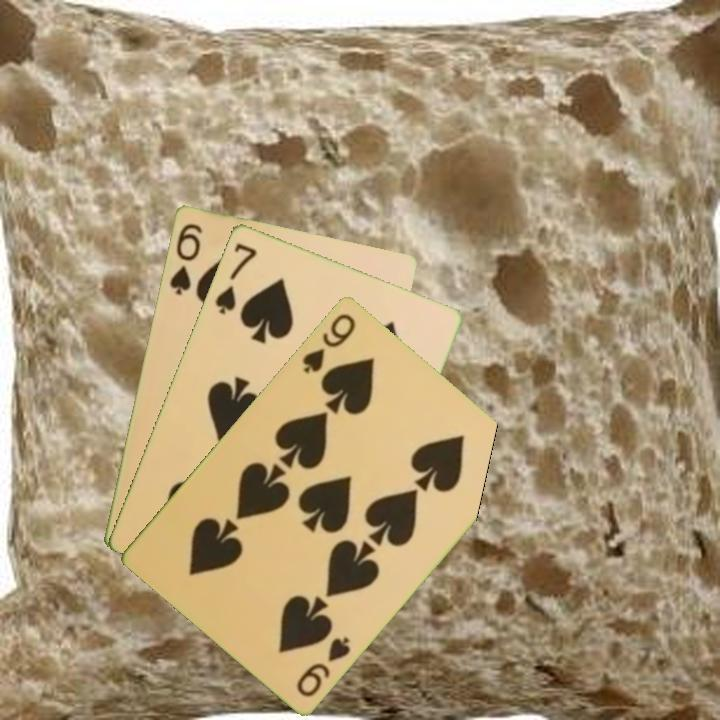6s: (166, 219, 205, 298)
7s: (211, 239, 260, 317)
9s: (298, 309, 359, 376), (293, 632, 353, 700)
